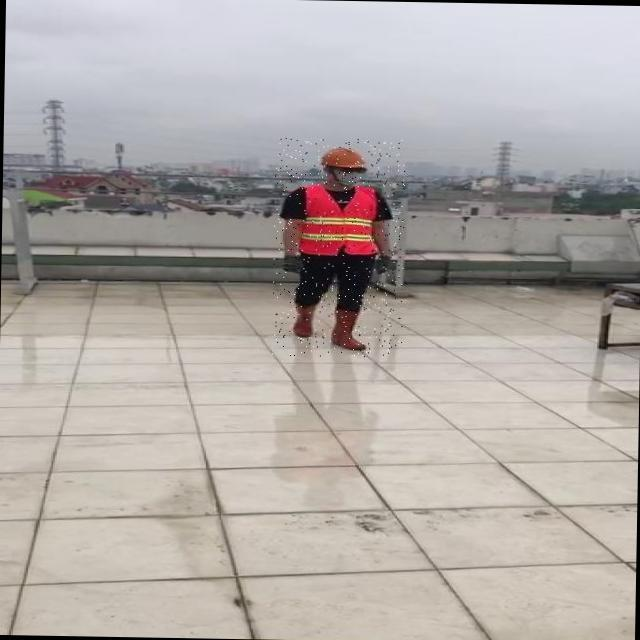Gloves: (373, 255, 393, 276), (282, 254, 304, 273)
Helmet: (318, 145, 369, 172)
Human: (272, 138, 406, 358)
Safety Boot: (330, 308, 373, 350), (292, 303, 317, 339)
Safety Vest: (300, 184, 381, 254)
